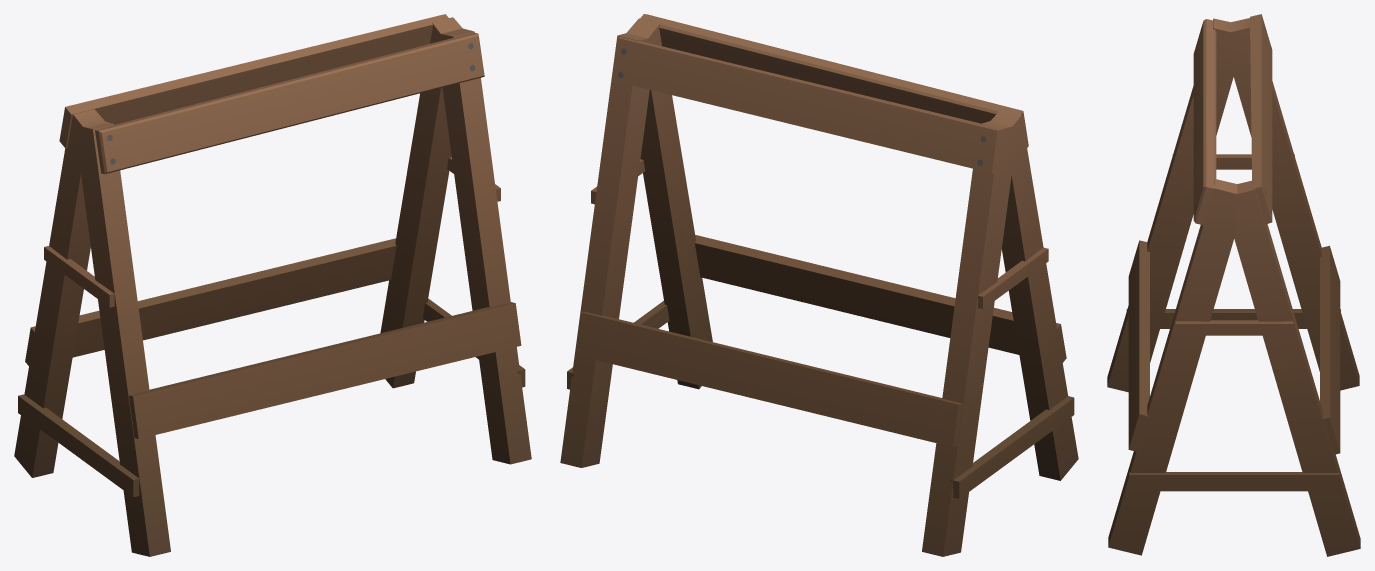
The model's file is Stand_1.fbx.
3 renders of one model, left to right at view 1: azimuth 30°, elevation 25°; view 2: azimuth 150°, elevation 25°; view 3: azimuth 270°, elevation 25°, orthographic. The views are drawn at different scales.
Visible parts, largest first — view 1: Stand_1; view 2: Stand_1; view 3: Stand_1.
Boxes of the visible parts, x1=… form: Stand_1: x1=14, y1=14, x2=531, y2=556; Stand_1: x1=560, y1=14, x2=1078, y2=556; Stand_1: x1=1107, y1=14, x2=1360, y2=556.
Size of the model in its own units: 113 by 110 by 67.61.
